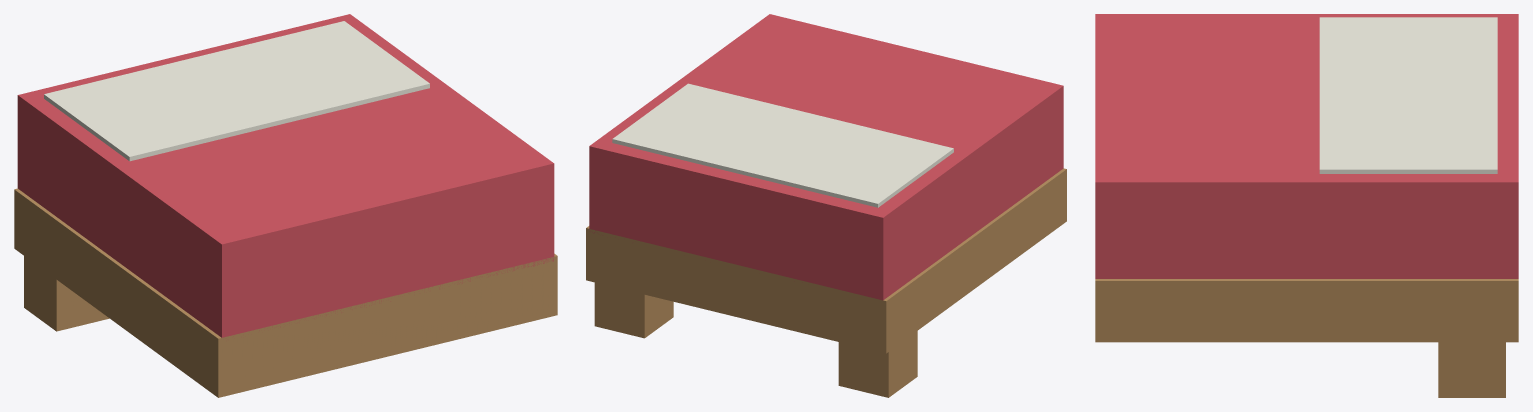
Rendered from bed_head.glb.
The picture shows the model from 3 angles, left to right: view 1: azimuth 30°, elevation 25°; view 2: azimuth 150°, elevation 25°; view 3: azimuth 270°, elevation 25°; orthographic projection. The views are drawn at different scales.
Parts seen in each view (by area): view 1: mattress, frame, pillow, leg; view 2: mattress, frame, pillow, leg, leg.001; view 3: mattress, pillow, frame, leg.001.
Boxes of the visible parts, x1,y1,x2,y2 form: mattress: [17, 14, 554, 337]; frame: [14, 188, 557, 397]; pillow: [44, 21, 429, 161]; leg: [24, 256, 109, 331]; mattress: [589, 14, 1063, 300]; frame: [586, 168, 1066, 353]; pillow: [612, 83, 953, 207]; leg: [838, 331, 917, 397]; leg.001: [594, 282, 673, 338]; mattress: [1095, 14, 1518, 278]; pillow: [1319, 17, 1497, 173]; frame: [1095, 279, 1518, 342]; leg.001: [1438, 342, 1505, 397].
Bounding box in the file's own units: 0.96 × 0.5745 × 1.
